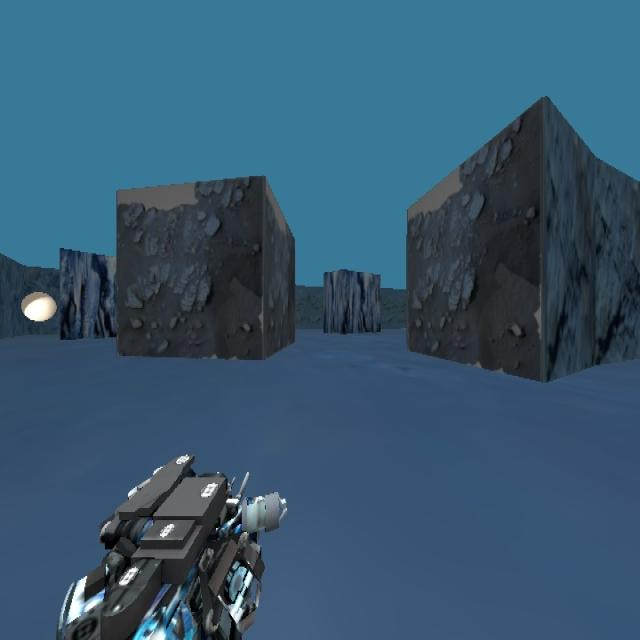Circle: (20, 290, 57, 322)
